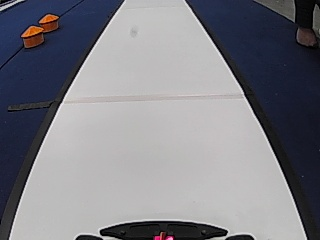granary: (21, 24, 46, 50), (38, 13, 59, 32)
